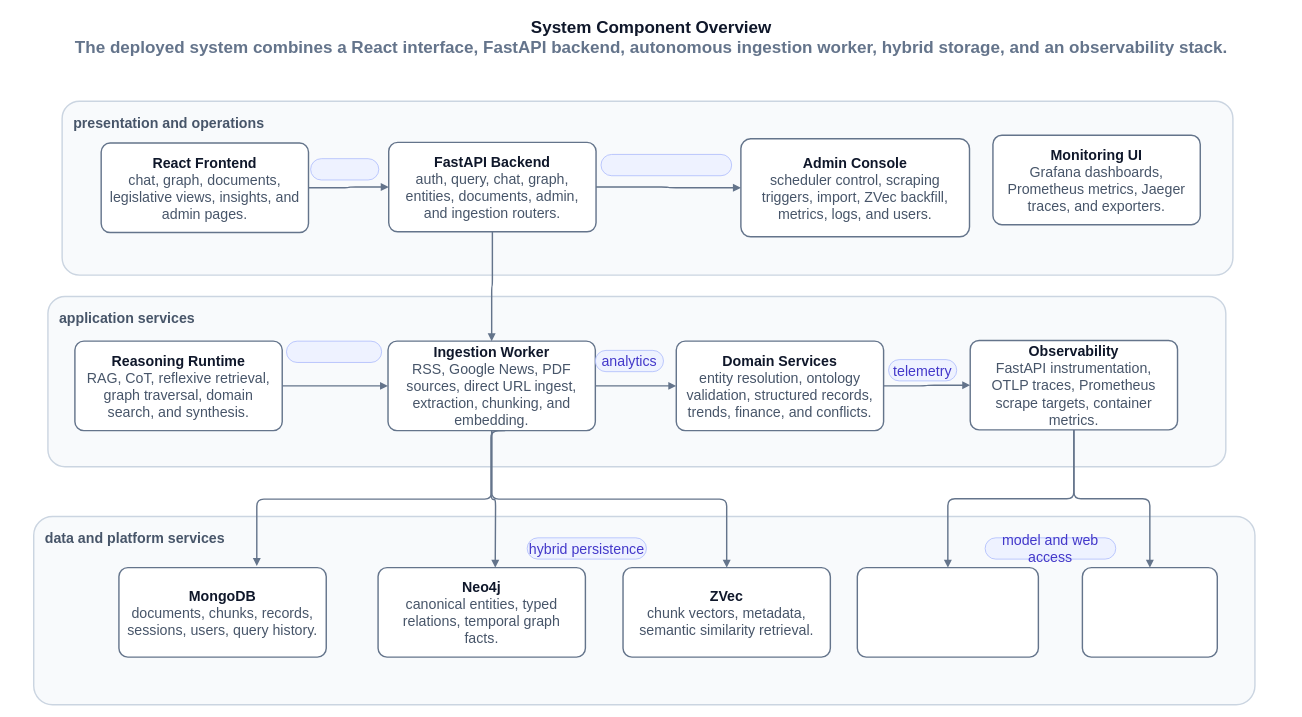
Image size: 1302x717. Some labels were removed from this diagram. Each missing label, with the centre of its shape:
"API calls" belongs at point 344,169.
"evidence preparation" belongs at point 334,351.
"External APIs Mistral models and source websites." belongs at point 1149,612.
"privileged workflows" belongs at point 666,165.
"Redis cache layer and operational service dependency." belongs at point 947,612.
